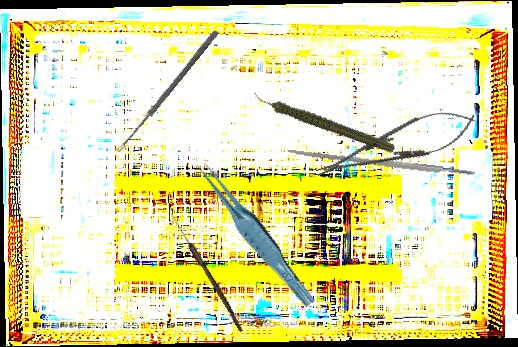Handpiece: (250, 62, 398, 180)
Needle Holder: (310, 98, 481, 192)
Scalpel Handle: (286, 147, 477, 179)
Surgical Spoon: (116, 29, 219, 154), (167, 212, 247, 333)
Tissue Forceps: (194, 151, 317, 315)
